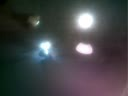window: (40, 16, 88, 96), (90, 46, 98, 96), (110, 11, 127, 30)
